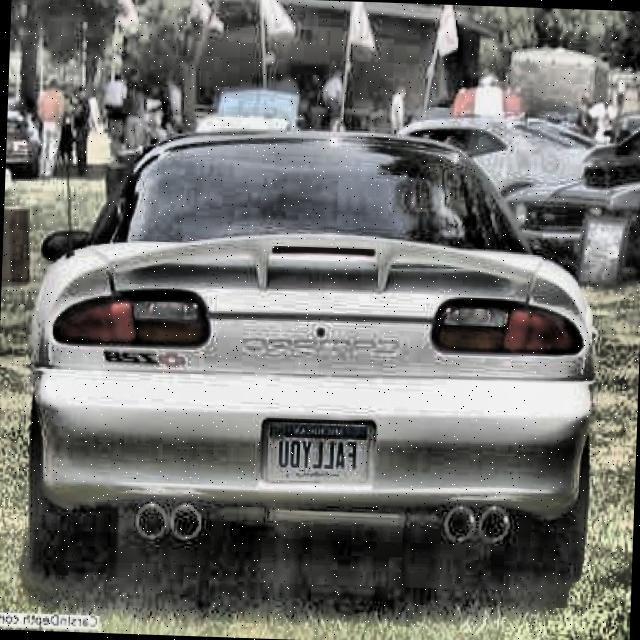license_plate: (262, 418, 372, 478)
